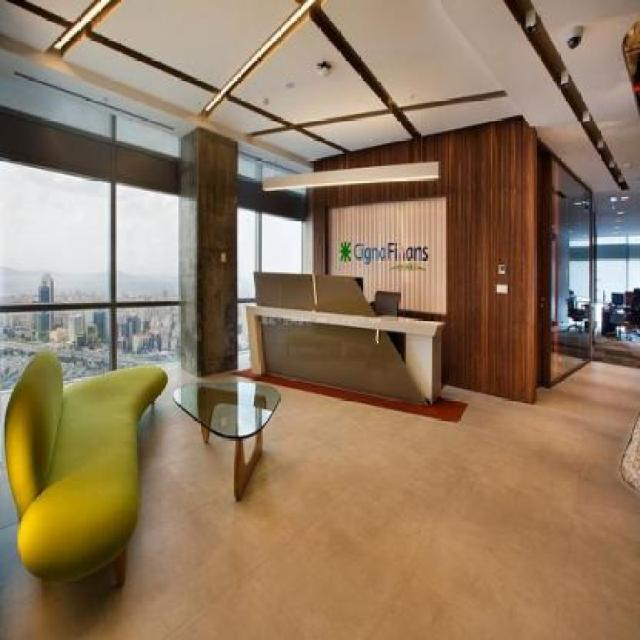frontdesk: (243, 262, 454, 413)
